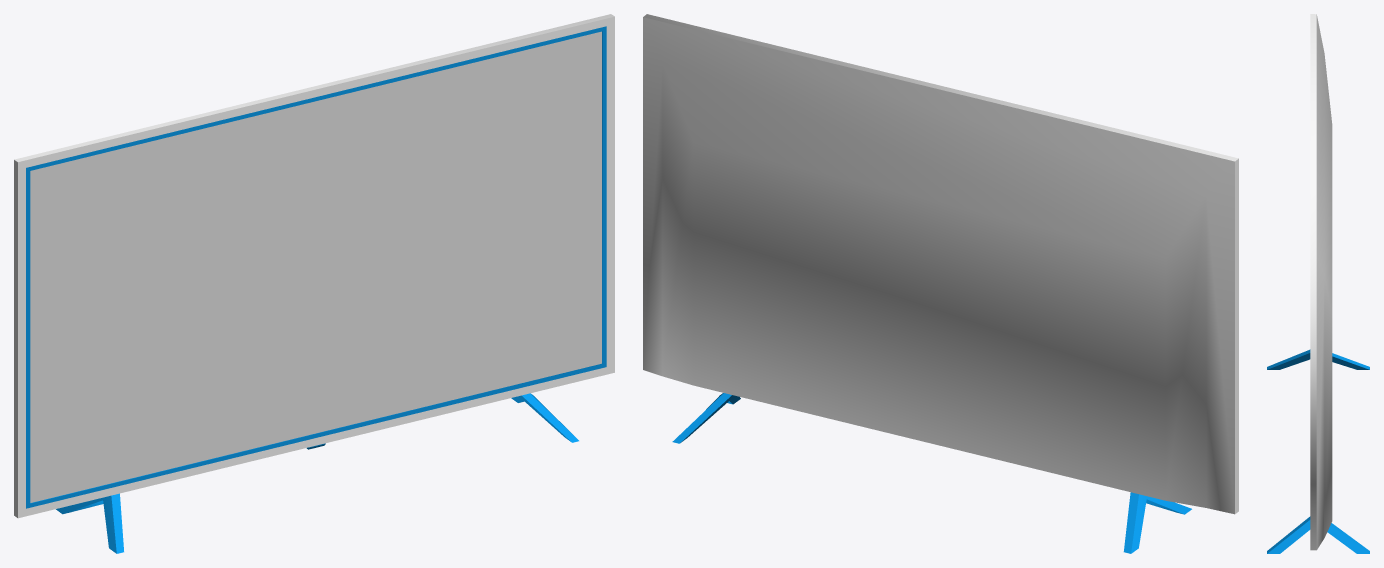
File: SM_SmartTV.fbx
The picture shows the model from 3 angles, left to right: view 1: azimuth 30°, elevation 25°; view 2: azimuth 150°, elevation 25°; view 3: azimuth 270°, elevation 25°; orthographic projection. The views are drawn at different scales.
Parts seen in each view (by area): view 1: SmartTV_screen, SmartTV_body, SmartTV_details; view 2: SmartTV_body, SmartTV_details; view 3: SmartTV_body, SmartTV_details.
Part boxes in pixels (left/top/right/bottom): SmartTV_screen: left=30, top=31, right=601, bottom=502; SmartTV_body: left=14, top=14, right=614, bottom=518; SmartTV_details: left=26, top=26, right=606, bottom=553; SmartTV_body: left=643, top=14, right=1238, bottom=514; SmartTV_details: left=672, top=393, right=1191, bottom=553; SmartTV_body: left=1310, top=14, right=1332, bottom=550; SmartTV_details: left=1267, top=349, right=1369, bottom=553.
Bounding box in the file's own units: 40.04 × 25.02 × 7.2.
